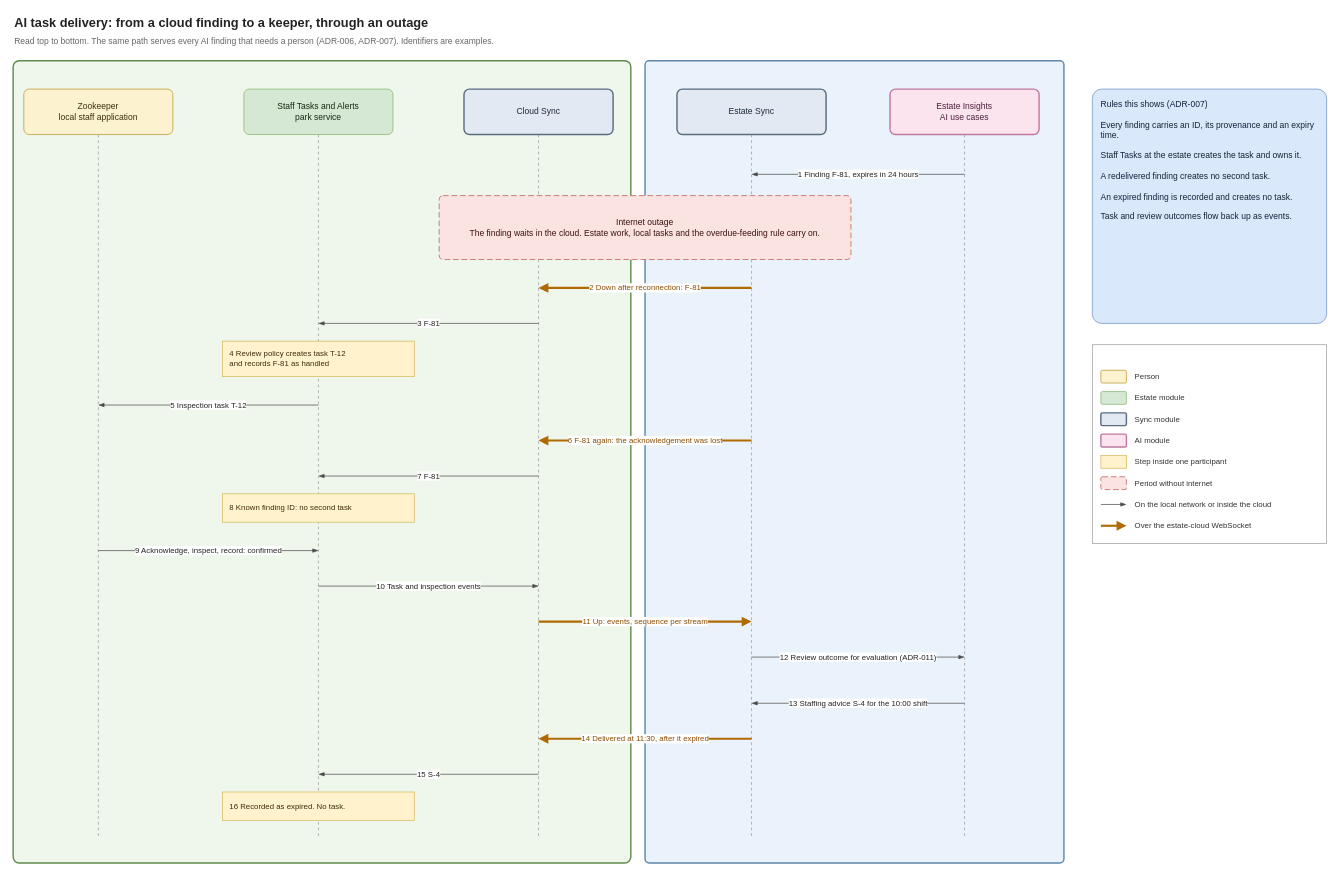
This 1339x875 diagram has some shape labels left out. Each missing label, with the box of its shape:
CLOUD PLATFORM: (644, 60, 1064, 863)
ESTATE: (12, 60, 631, 863)
Key: (1092, 344, 1327, 544)
